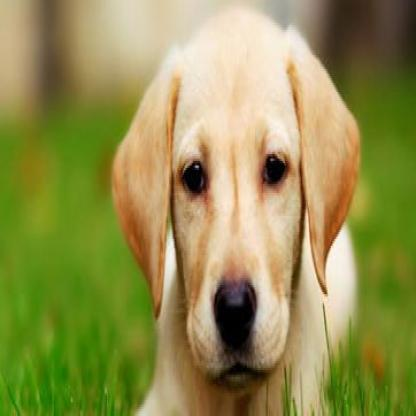dog: (108, 11, 360, 416)
